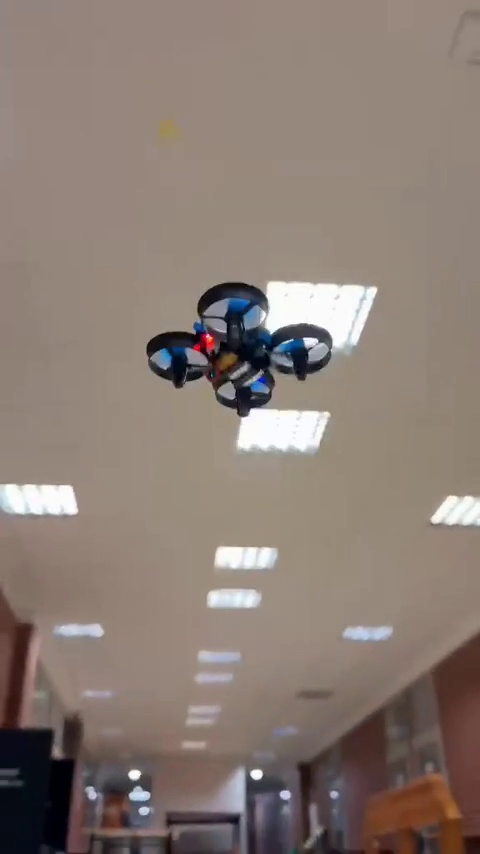drone: (149, 276, 331, 417)
